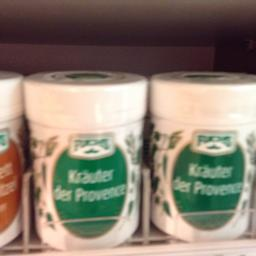spices: (20, 68, 146, 250), (150, 68, 255, 242)
